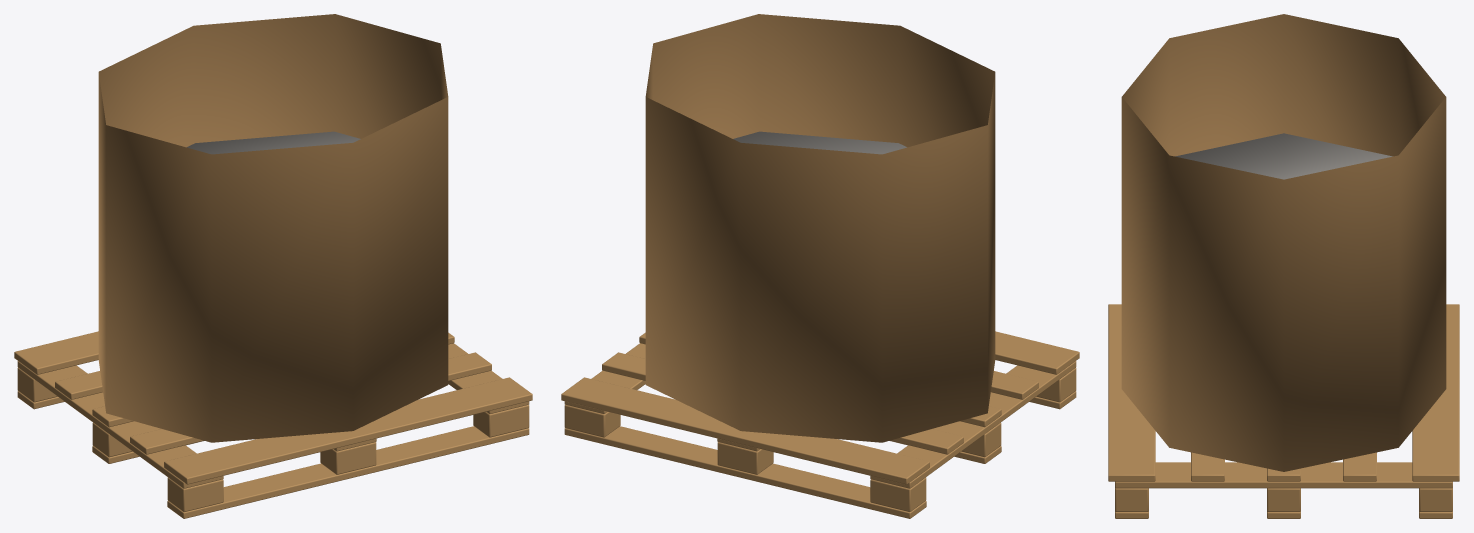
Rendered from gaylord_flakes.fbx.
3 renders of one model, left to right at view 1: azimuth 30°, elevation 25°; view 2: azimuth 150°, elevation 25°; view 3: azimuth 270°, elevation 25°, orthographic.
Visible parts, largest first — view 1: gaylord_flakes; view 2: gaylord_flakes; view 3: gaylord_flakes.
Boxes of the visible parts, <box> form: gaylord_flakes: <box>14,14,532,518</box>; gaylord_flakes: <box>561,14,1079,518</box>; gaylord_flakes: <box>1108,14,1459,518</box>.
Bounding box in the file's own units: 1.2 × 1.1 × 1.04.
